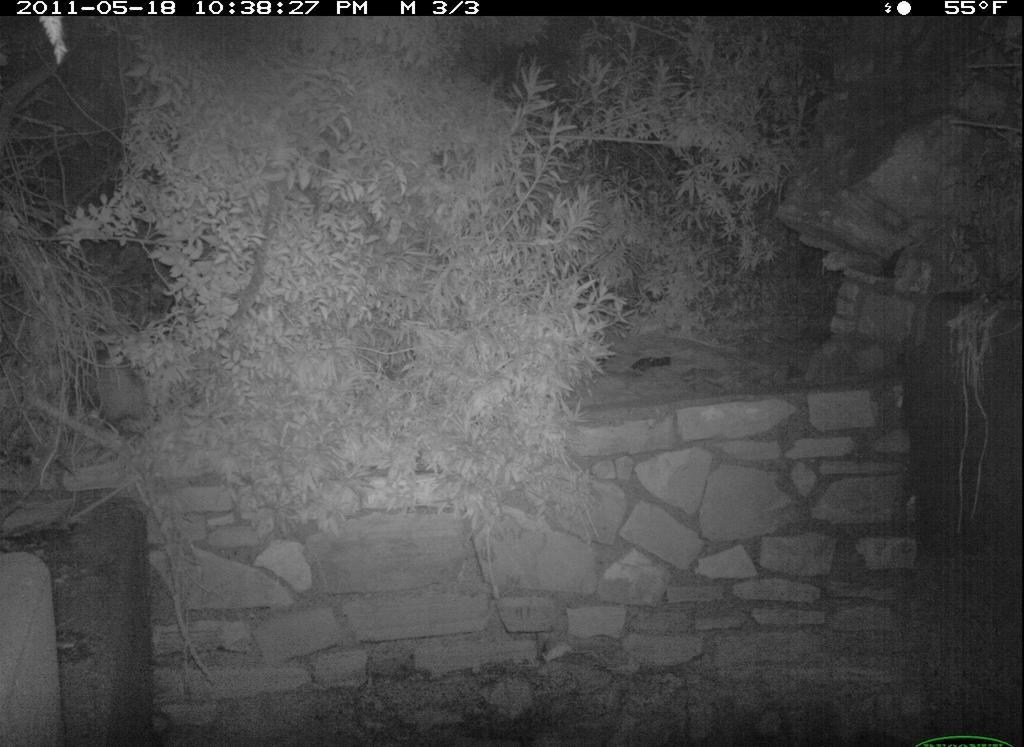opossum: (73, 341, 169, 443)
